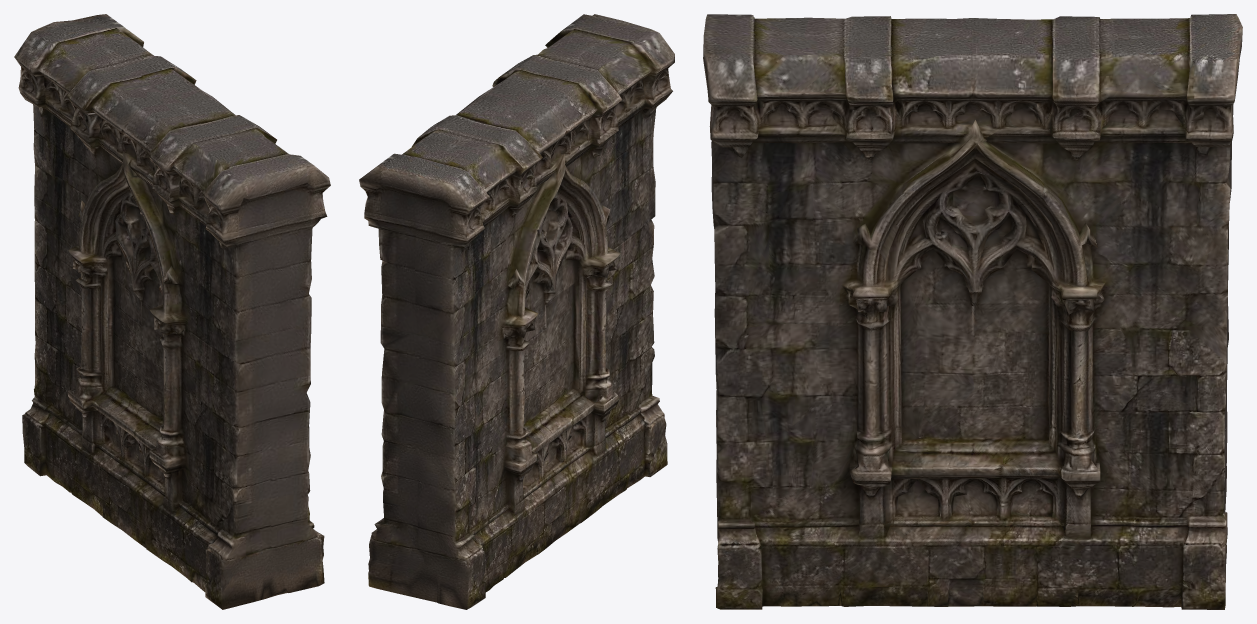
Rendered from wall_niche.glb.
The picture shows the model from 3 angles, left to right: view 1: azimuth 30°, elevation 25°; view 2: azimuth 150°, elevation 25°; view 3: azimuth 270°, elevation 25°; orthographic projection. The views are drawn at different scales.
Visible parts, largest first — view 1: tripo_node_7181df8b-5234-40d3-8a92-46cb31f380a4; view 2: tripo_node_7181df8b-5234-40d3-8a92-46cb31f380a4; view 3: tripo_node_7181df8b-5234-40d3-8a92-46cb31f380a4.
Part boxes in pixels (x1,y1,x2,y2): tripo_node_7181df8b-5234-40d3-8a92-46cb31f380a4: (14,14,330,609); tripo_node_7181df8b-5234-40d3-8a92-46cb31f380a4: (359,14,674,609); tripo_node_7181df8b-5234-40d3-8a92-46cb31f380a4: (703,14,1242,609).
Bounding box in the file's own units: 0.2787 × 1 × 0.8974.
Materials: 1 (1 with a texture image).
